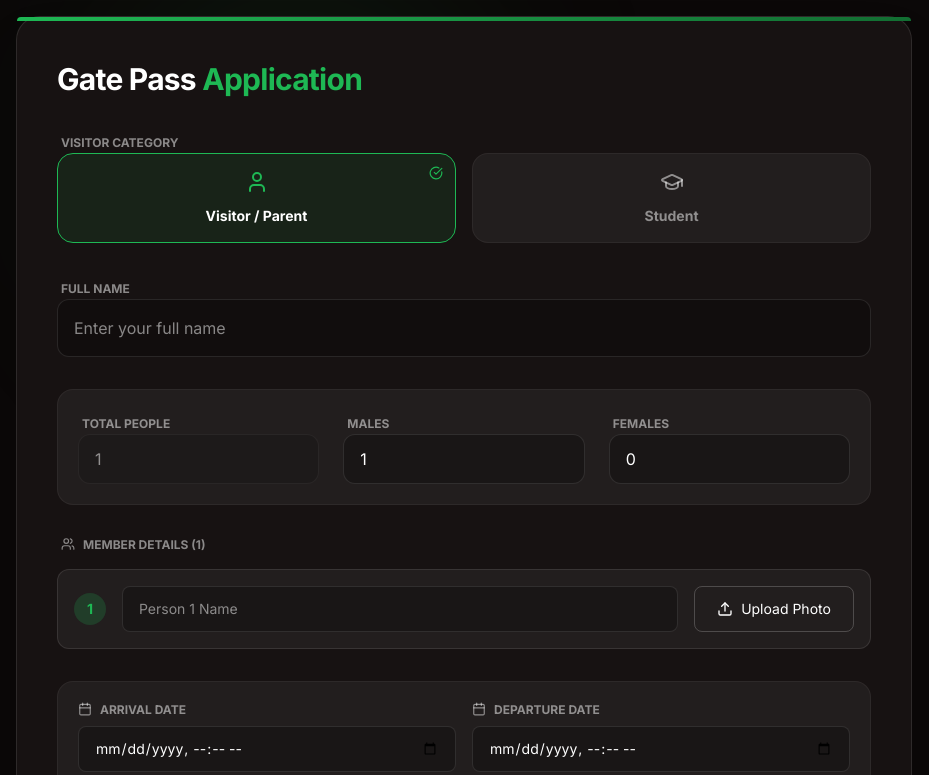
it: VisitorForm Component › sanitizes the full name input
This screenshot has width=929, height=775.
Type "John123 Doe@!" into the field with placeholder "Enter your full name" at (464, 328), box [57, 299, 871, 357]
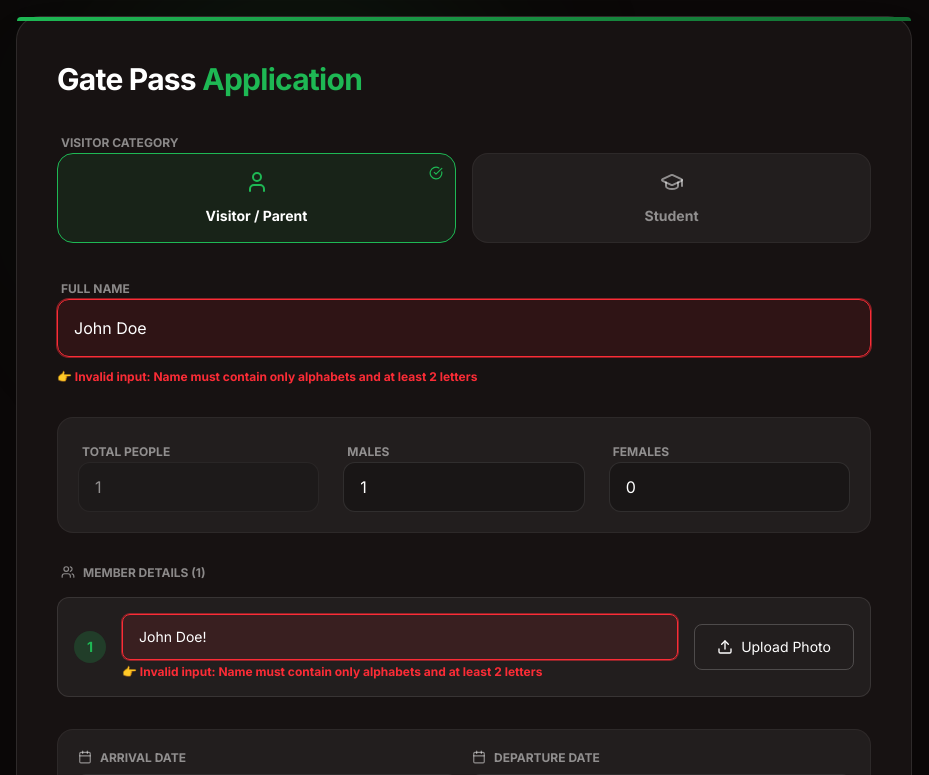
expect the field with placeholder "Enter your full name" below "Full Name" holds "John Doe": met, box [57, 299, 871, 357]
